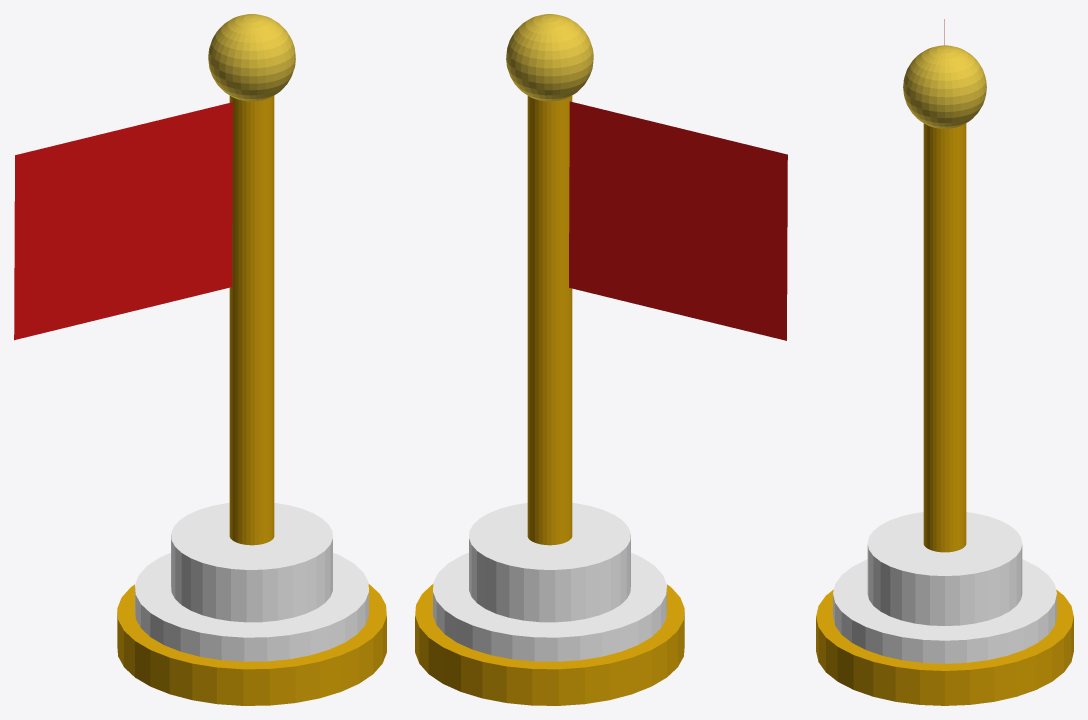
File: checkpoint.glb
The picture shows the model from 3 angles, left to right: view 1: azimuth 30°, elevation 25°; view 2: azimuth 150°, elevation 25°; view 3: azimuth 270°, elevation 25°; orthographic projection. The views are drawn at different scales.
Parts seen in each view (by area): view 1: Cylinder, Plane, Sphere; view 2: Cylinder, Plane, Sphere; view 3: Cylinder, Sphere.
Boxes of the visible parts, <box> form: Cylinder: <box>117,95,386,705</box>; Plane: <box>14,102,232,340</box>; Sphere: <box>208,14,295,101</box>; Cylinder: <box>415,95,684,705</box>; Plane: <box>569,101,787,340</box>; Sphere: <box>506,14,593,101</box>; Cylinder: <box>816,123,1073,705</box>; Sphere: <box>903,45,986,128</box>.
Size of the model in its own units: 2.08 by 3.54 by 1.37.
